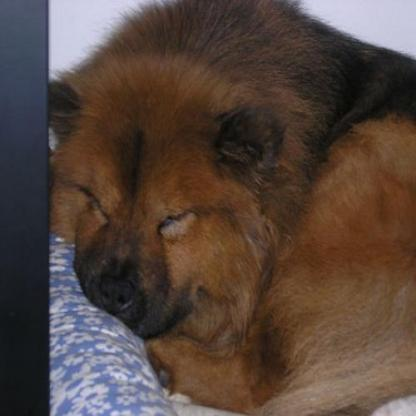chow: (47, 1, 414, 414)
